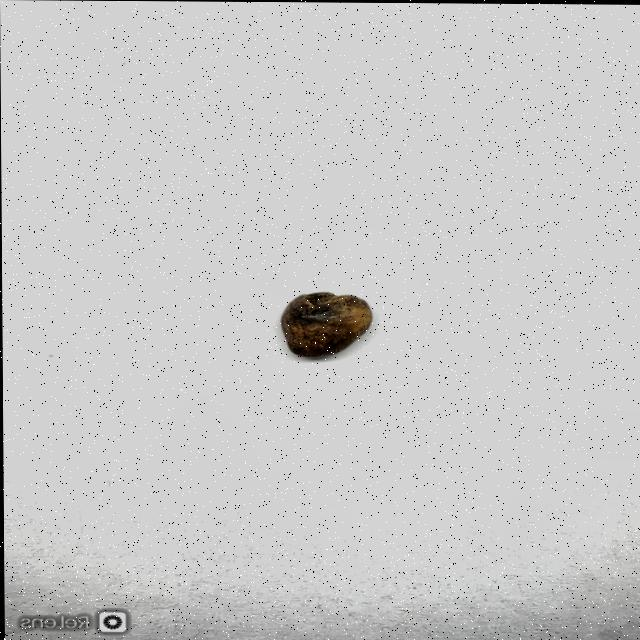Insect damage: (280, 290, 374, 359)
